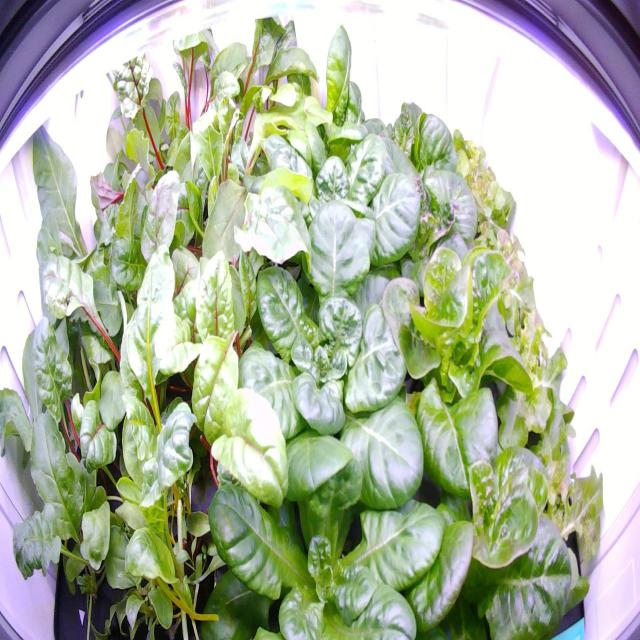Ready: (346, 347, 604, 640), (352, 228, 554, 431), (335, 146, 498, 310), (344, 92, 467, 213)
young: (190, 376, 480, 638), (213, 184, 444, 459), (233, 99, 429, 302), (254, 16, 412, 170)
